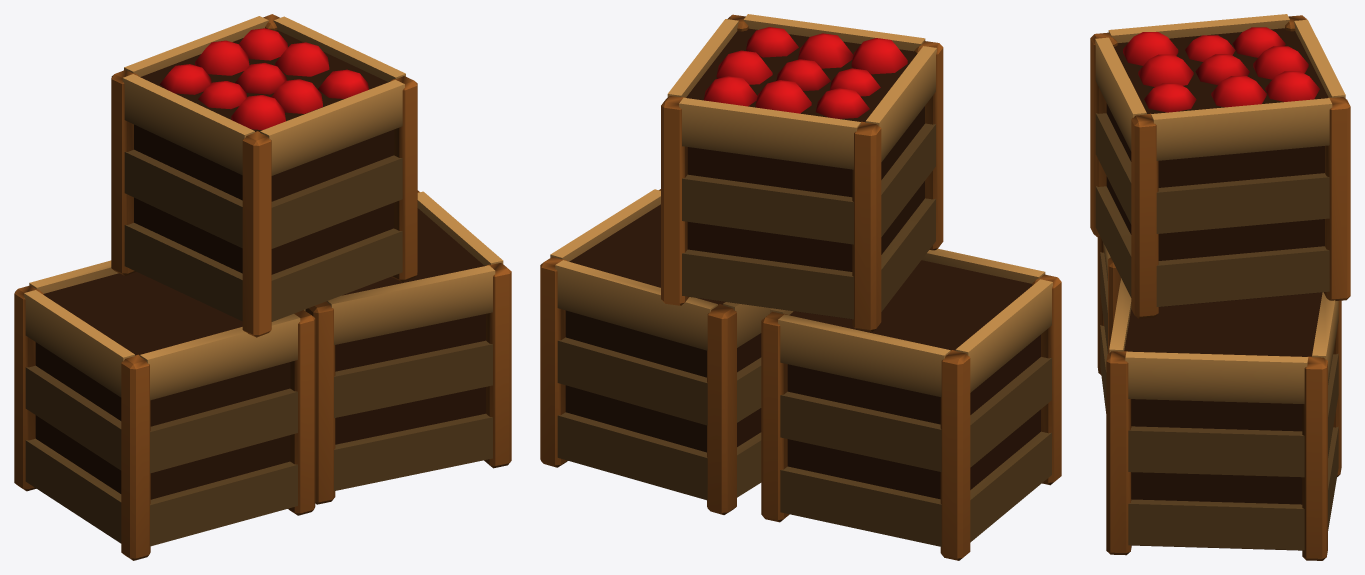
File: Crate_Stack.fbx
3 renders of one model, left to right at view 1: azimuth 30°, elevation 25°; view 2: azimuth 150°, elevation 25°; view 3: azimuth 270°, elevation 25°, orthographic. The views are drawn at different scales.
Visible parts, largest first — view 1: Crate_Stack; view 2: Crate_Stack; view 3: Crate_Stack.
Boxes of the visible parts, x1,y1,x2,y2 form: Crate_Stack: [14, 14, 511, 560]; Crate_Stack: [540, 14, 1061, 560]; Crate_Stack: [1090, 14, 1350, 560].
Bounding box in the file's own units: 1.35 × 1.29 × 0.7422.
